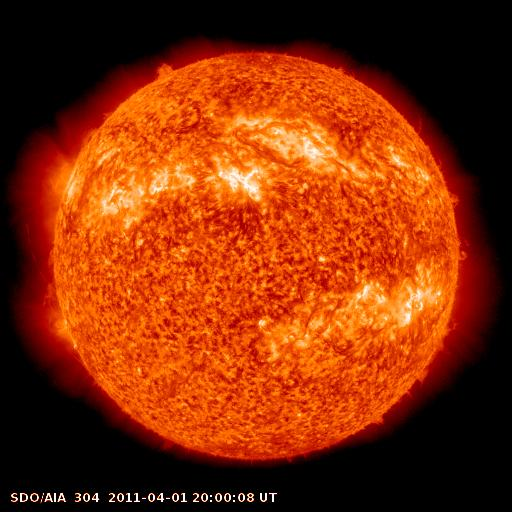prominence: (23, 244, 66, 309), (75, 107, 117, 160), (140, 56, 192, 90), (446, 233, 479, 268)
